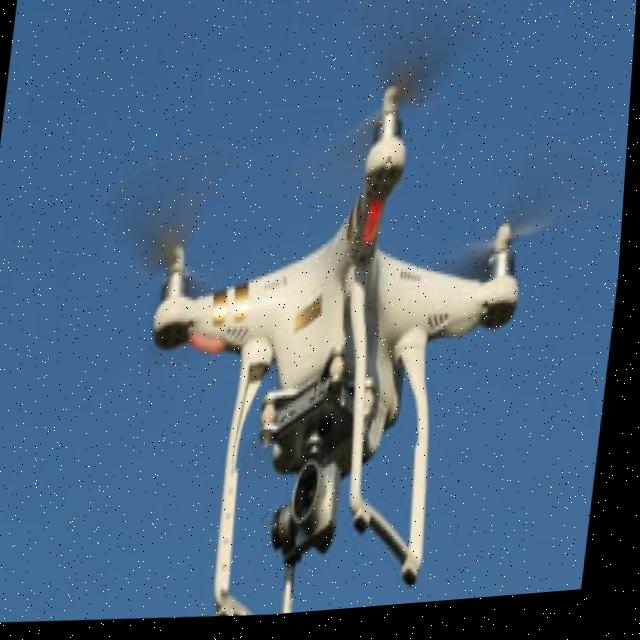drones: (34, 0, 582, 636)
